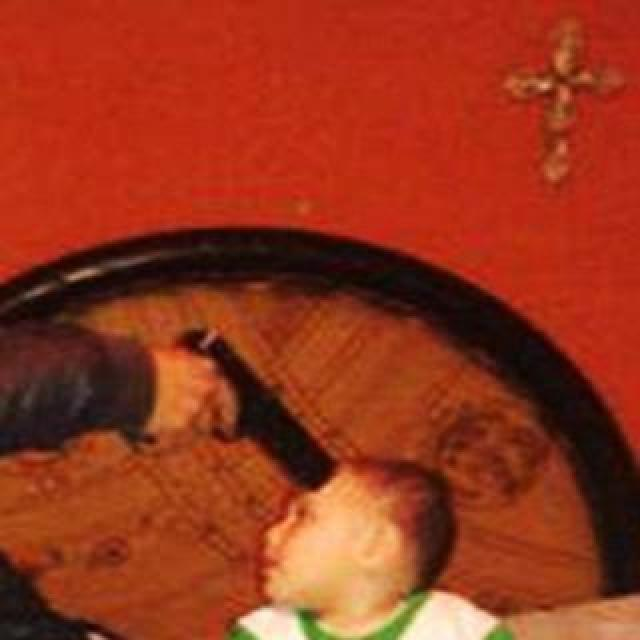Guns: (137, 277, 374, 533)
